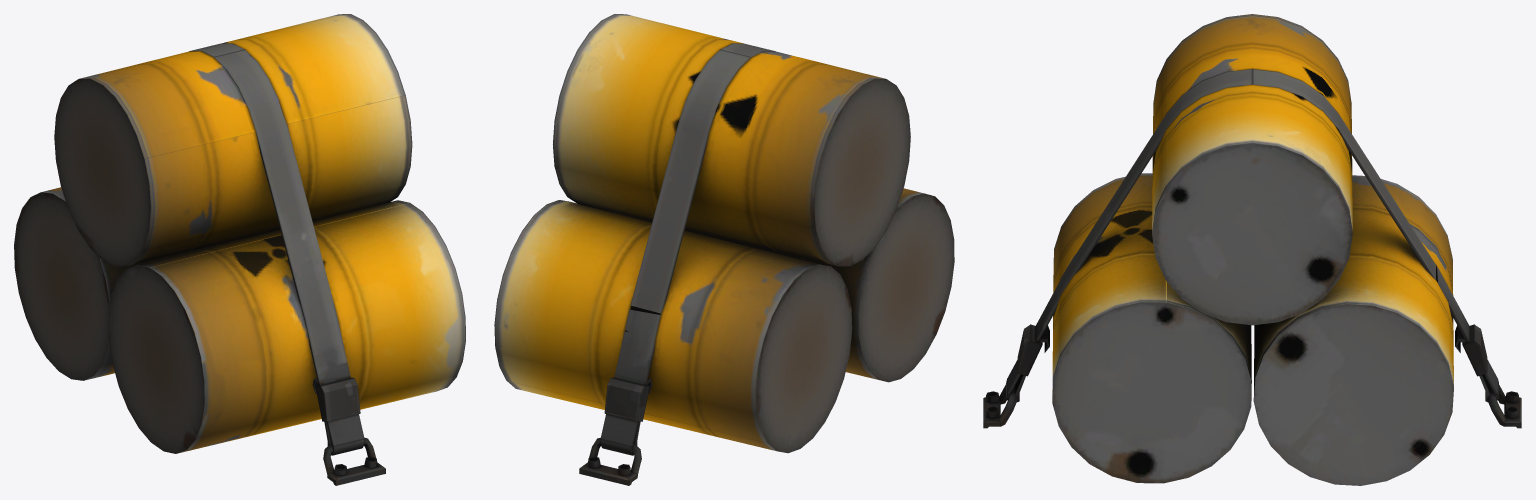
Rendered from barrel_flatbed01.glb.
3 renders of one model, left to right at view 1: azimuth 30°, elevation 25°; view 2: azimuth 150°, elevation 25°; view 3: azimuth 270°, elevation 25°, orthographic. The views are drawn at different scales.
Visible parts, largest first — view 1: barrel_flatbed01; view 2: barrel_flatbed01; view 3: barrel_flatbed01.
Boxes of the visible parts, x1,y1,x2,y2 form: barrel_flatbed01: (14, 14, 465, 485); barrel_flatbed01: (494, 14, 954, 485); barrel_flatbed01: (983, 14, 1521, 485).
Bounding box in the file's own units: 1.58 × 1.85 × 2.66.
Materials: 1 (1 with a texture image).
